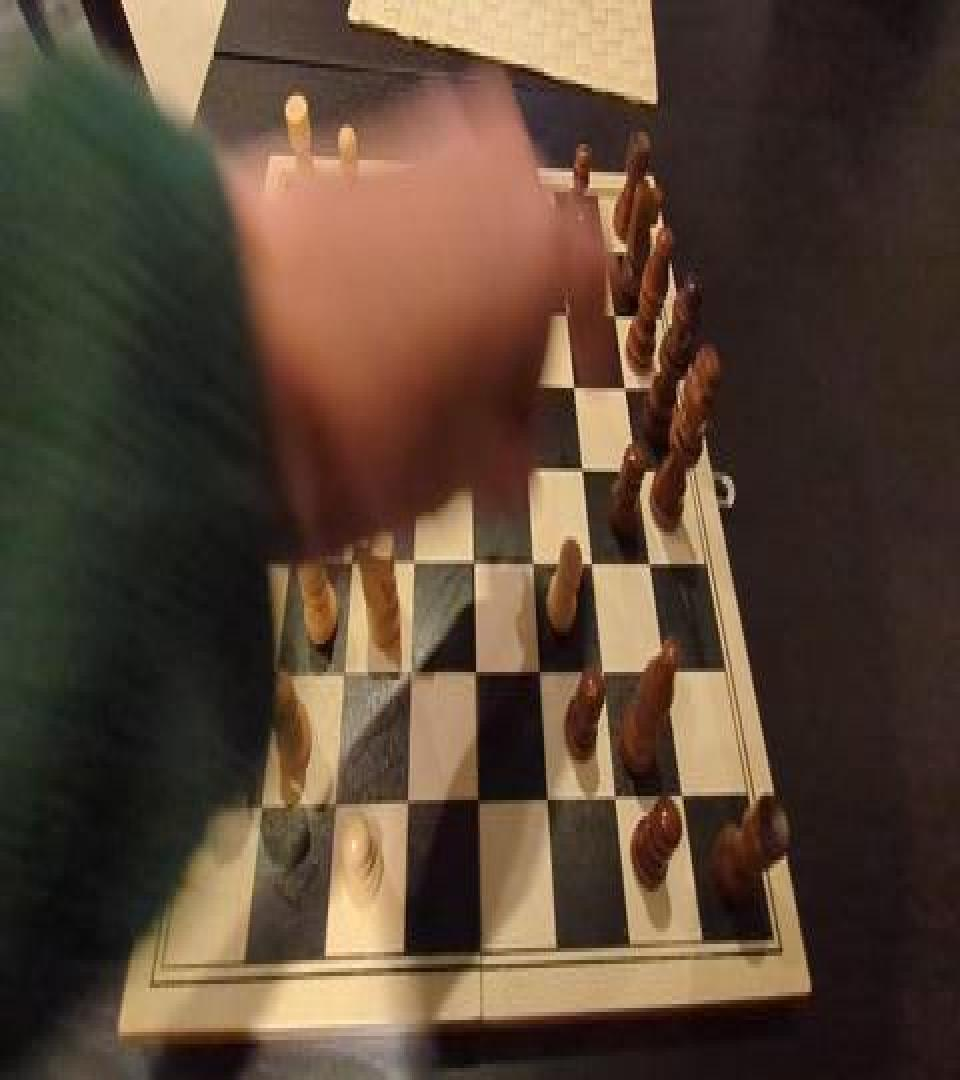xcorner: (594, 234, 610, 266), (549, 232, 565, 264), (503, 230, 519, 262), (457, 228, 473, 260), (411, 226, 427, 258), (364, 226, 380, 258), (317, 224, 333, 256), (603, 298, 619, 330), (555, 296, 571, 328), (507, 294, 523, 326), (458, 294, 474, 326), (409, 292, 425, 324), (360, 290, 376, 322), (309, 290, 325, 322), (613, 370, 629, 402), (563, 368, 579, 400), (512, 368, 528, 400), (460, 366, 476, 398), (407, 366, 423, 398), (354, 364, 370, 396), (301, 364, 317, 396), (625, 452, 641, 484), (571, 450, 587, 482), (516, 450, 532, 482), (461, 450, 477, 482), (405, 448, 421, 480), (349, 448, 365, 480), (291, 448, 307, 480), (638, 546, 654, 578), (581, 544, 597, 576), (522, 544, 538, 576), (463, 544, 479, 576), (403, 544, 419, 576), (342, 544, 358, 576), (281, 544, 297, 576), (654, 652, 670, 684), (592, 654, 608, 686), (529, 654, 545, 686), (465, 654, 481, 686), (400, 656, 416, 688), (334, 656, 350, 688), (268, 656, 284, 688), (671, 778, 687, 810), (604, 780, 620, 812), (536, 782, 552, 814), (467, 784, 483, 816), (397, 786, 413, 818), (325, 786, 341, 818), (253, 788, 269, 820)
